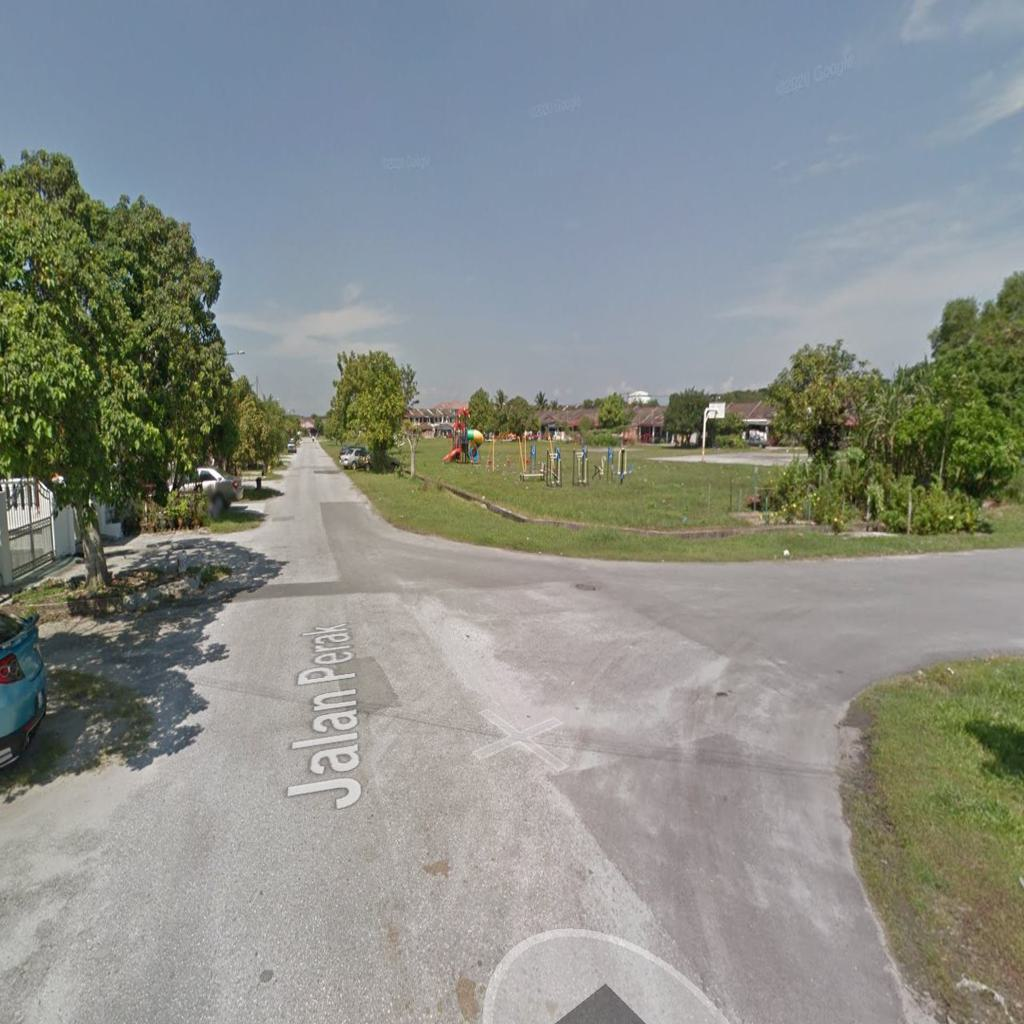Junction: (487, 513, 1010, 861)
